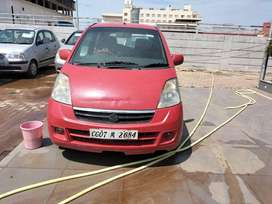CG07R2684: (90, 128, 137, 139)
